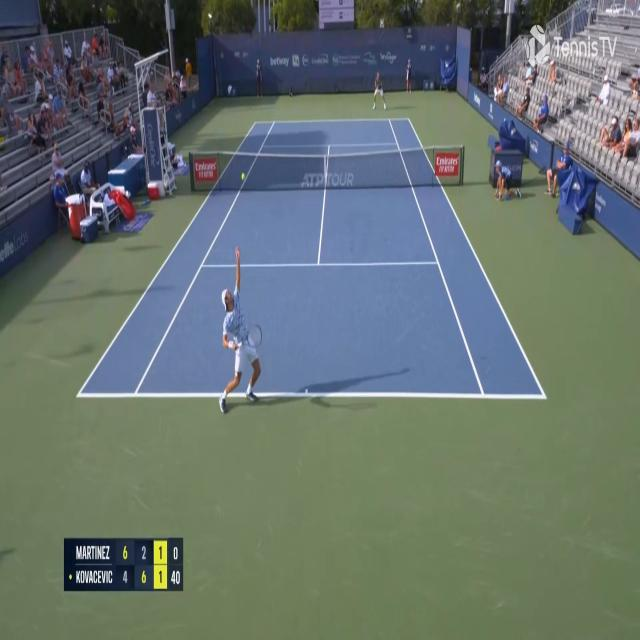tennis-player: (216, 239, 264, 418), (371, 71, 387, 112)
